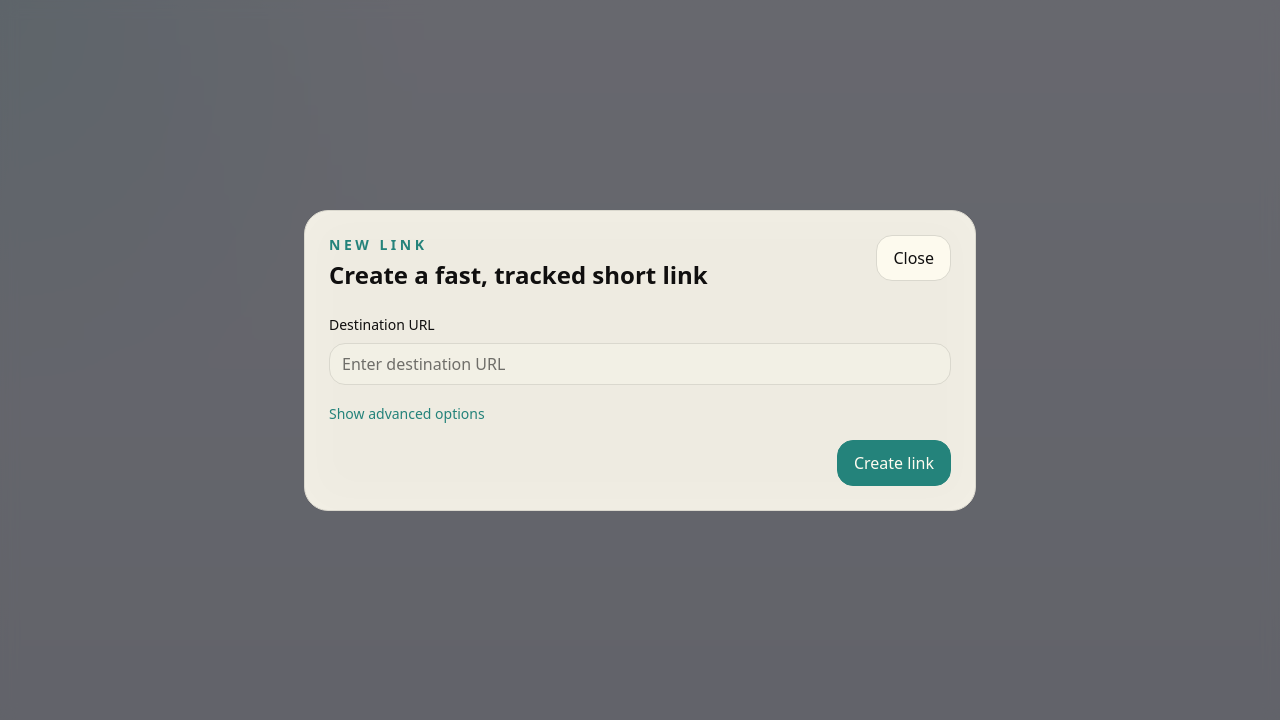
Test case: CreateLinkModal › reveals advanced fields when toggled
Click the button "Show advanced options": (407, 414) [329,404,485,424]
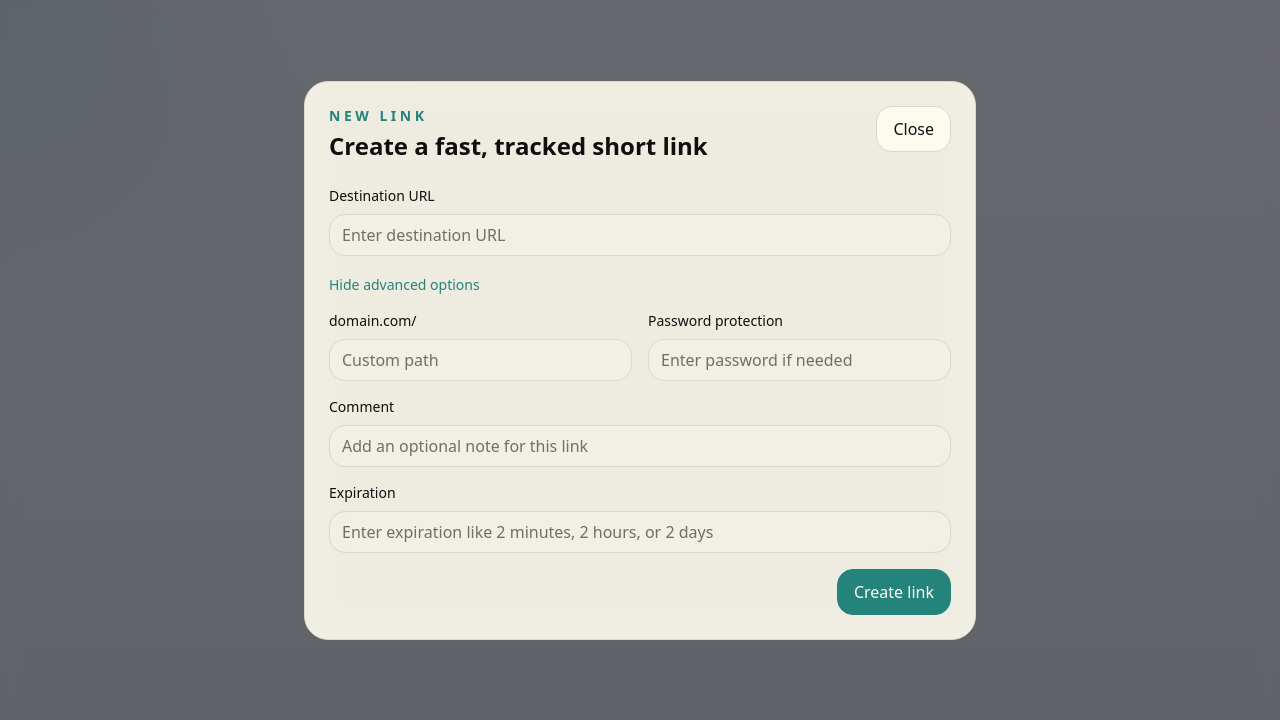
Result: the text "domain.com/" is shown at [329,310,416,330]
Result: the text "Password protection" is shown at [648,310,783,330]
